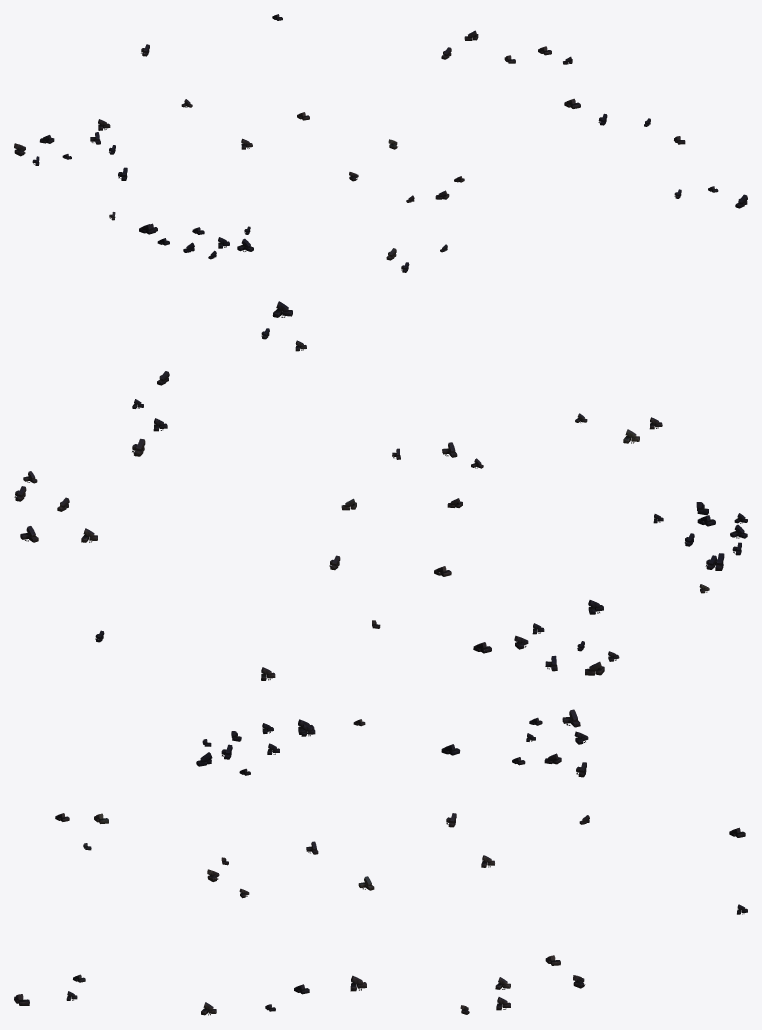
File: dg_rubble_small.glb
3 renders of one model, top to bottom at view 1: azimuth 30°, elevation 25°; view 2: azimuth 150°, elevation 25°; view 3: azimuth 270°, elevation 25°, orthographic. The views are drawn at different scales.
Parts seen in each view (by area): view 1: COL_DGP_RUBBLE_SMALL; view 2: COL_DGP_RUBBLE_SMALL; view 3: COL_DGP_RUBBLE_SMALL.
Part boxes in pixels (<box>): COL_DGP_RUBBLE_SMALL: <box>14,14,747,272</box>; COL_DGP_RUBBLE_SMALL: <box>14,301,747,680</box>; COL_DGP_RUBBLE_SMALL: <box>14,709,747,1015</box>.
Bounding box in the file's own units: 45.29 × 0.8461 × 47.6.
Materials: 1 (1 with a texture image).
